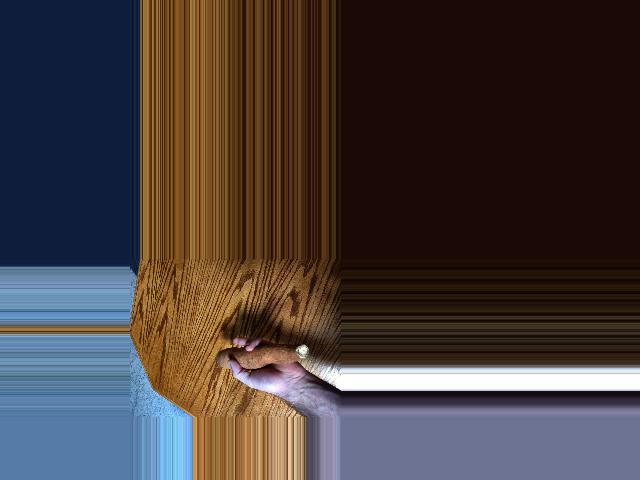sweet_potato: (211, 340, 312, 364)
